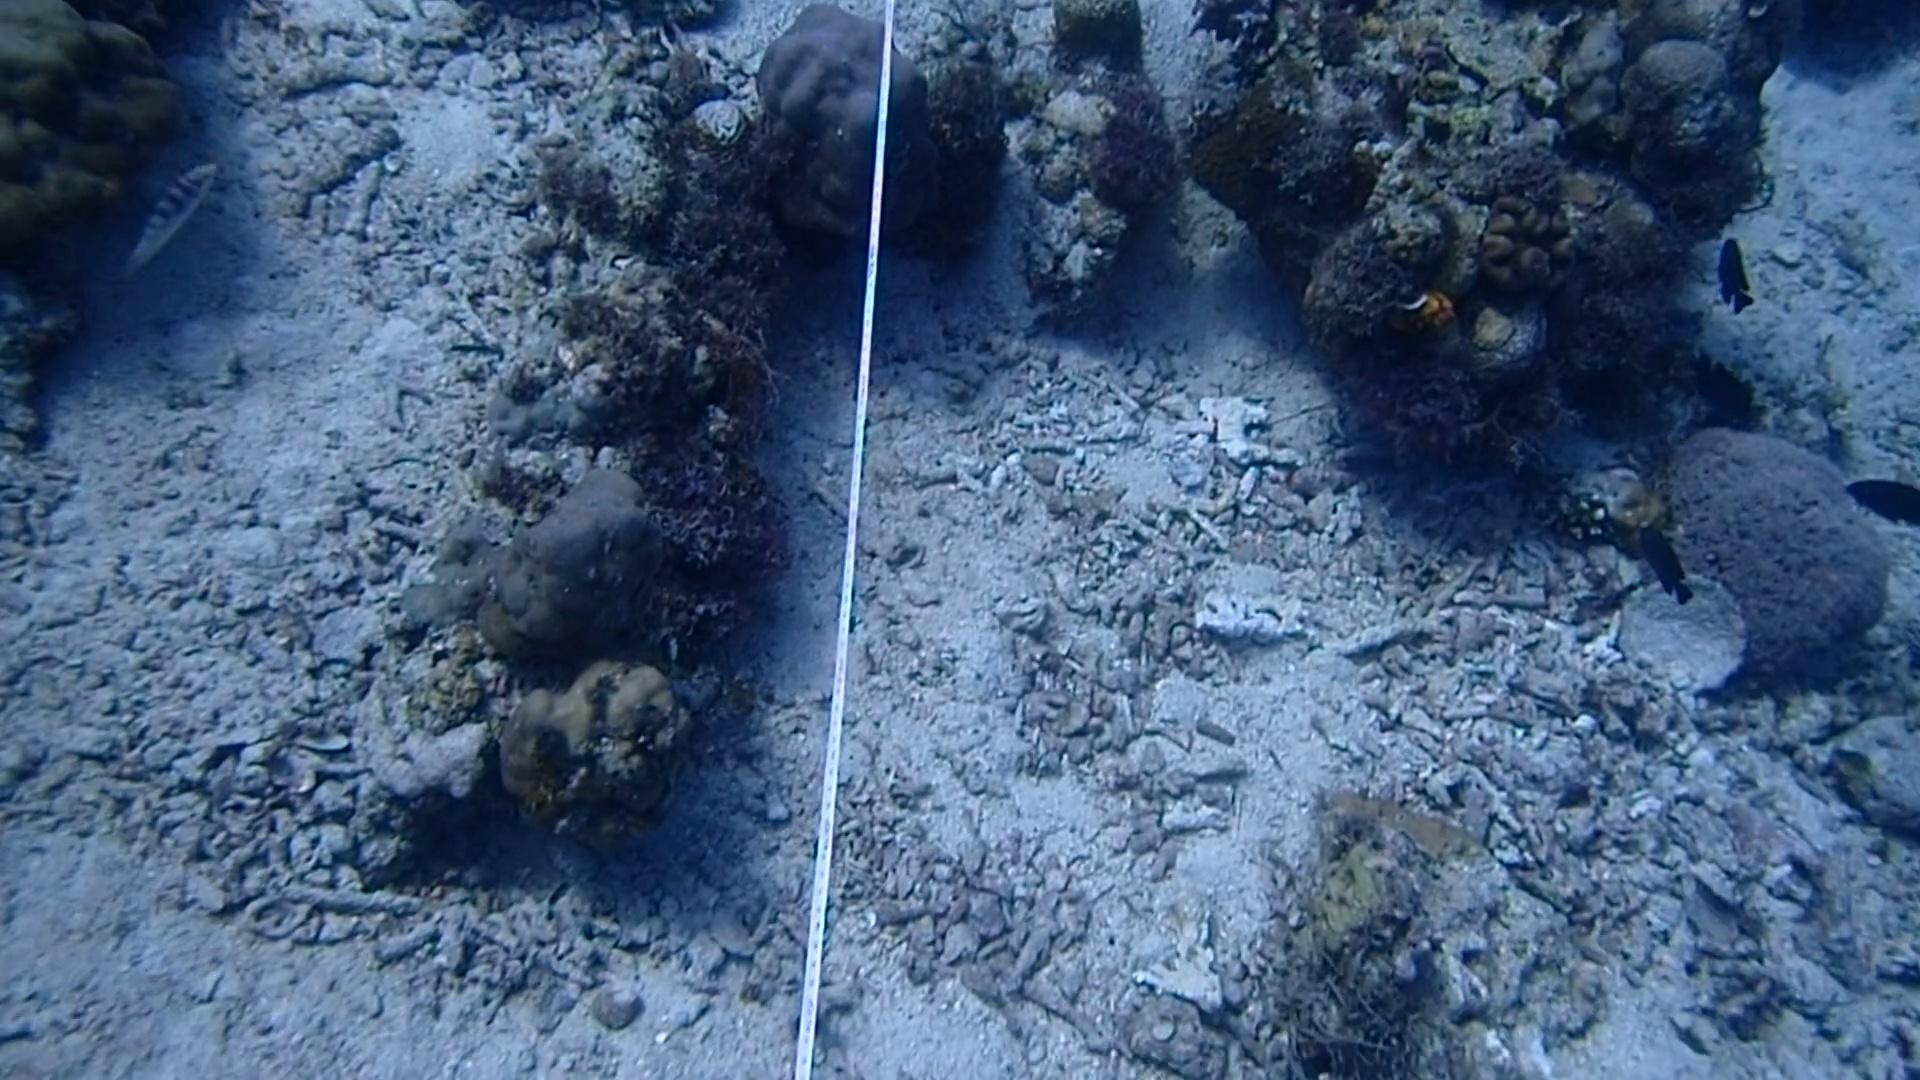Dark Fish: (1673, 339, 1770, 433), (1631, 527, 1700, 620), (1846, 467, 1920, 542), (1708, 224, 1766, 319)
Light Fish w Back Stripes: (108, 152, 220, 285)
